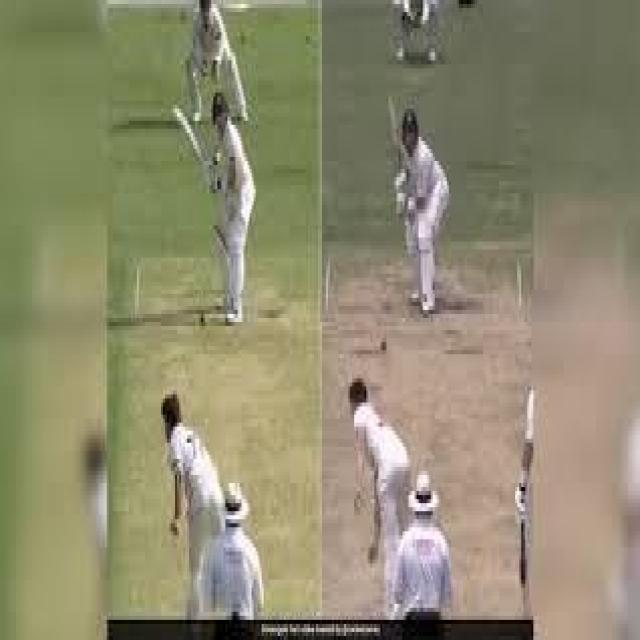toe: (385, 97, 400, 122), (170, 103, 182, 129)
